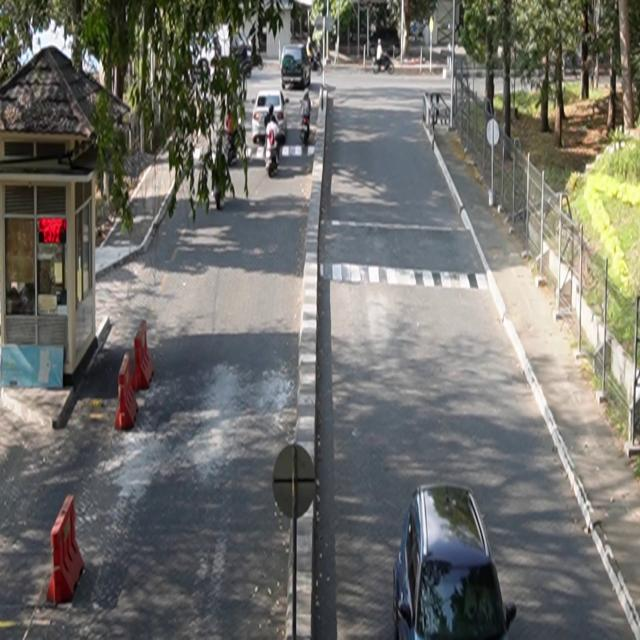car: (393, 484, 518, 640), (253, 90, 291, 145), (281, 44, 312, 91)
